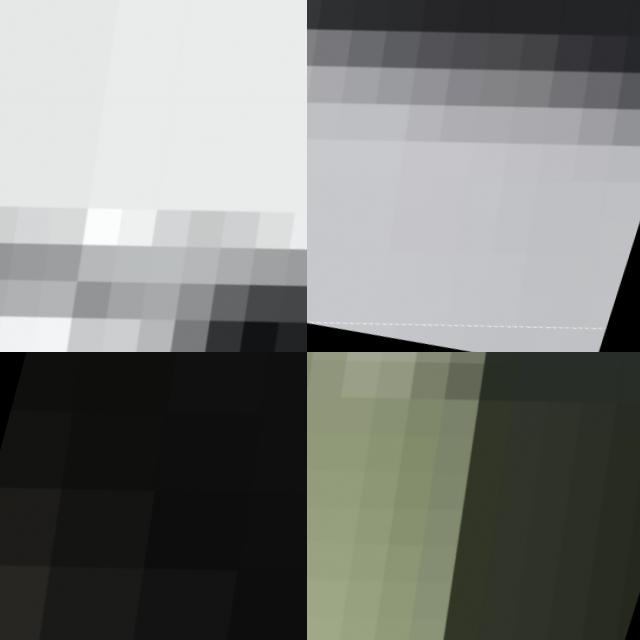0: (0, 0, 307, 352), (307, 352, 640, 640)
drone: (307, 0, 640, 352), (0, 352, 307, 640)
